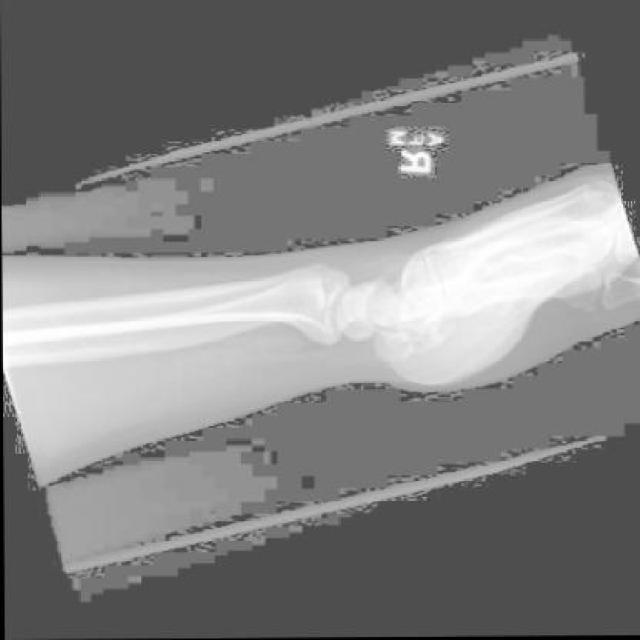Fracture: (351, 268, 396, 307)
